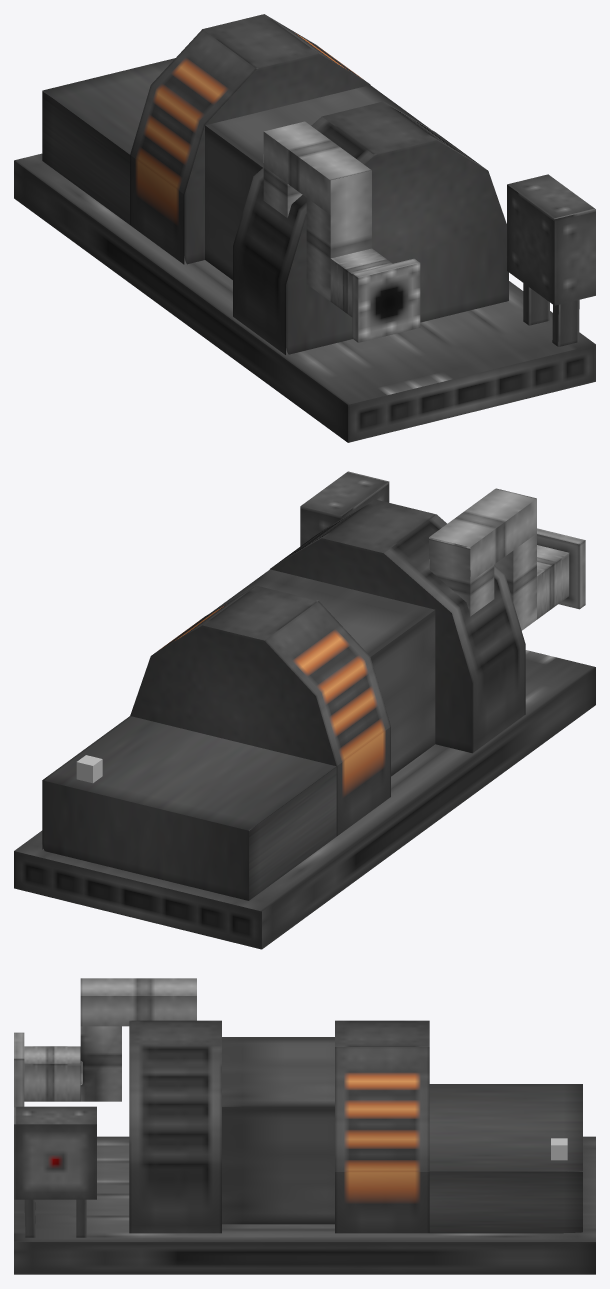
Rendered from steam_turbine.obj.
The picture shows the model from 3 angles, top to bottom: view 1: azimuth 30°, elevation 25°; view 2: azimuth 150°, elevation 25°; view 3: azimuth 270°, elevation 25°; orthographic projection. The views are drawn at different scales.
Parts seen in each view (by area): view 1: base_网格.001; view 2: base_网格.001, 立方体_网格; view 3: base_网格.001.
Boxes of the visible parts, bbox=[...] form: base_网格.001: bbox=[14, 14, 595, 442]; base_网格.001: bbox=[14, 471, 595, 949]; 立方体_网格: bbox=[76, 755, 102, 783]; base_网格.001: bbox=[14, 978, 595, 1274].
Size of the model in its own units: 3 by 2.65 by 7.
